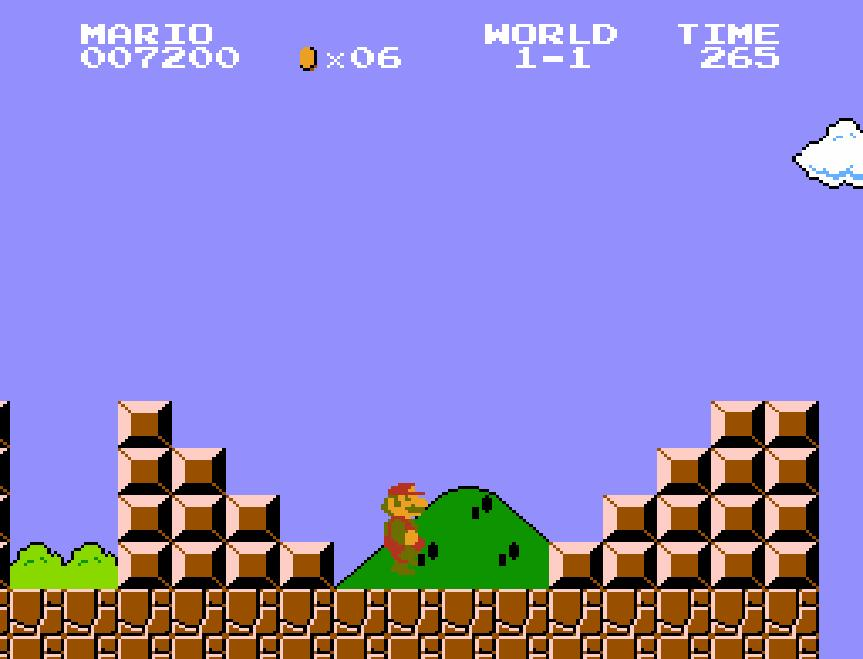big_mario: (376, 478, 434, 576)
